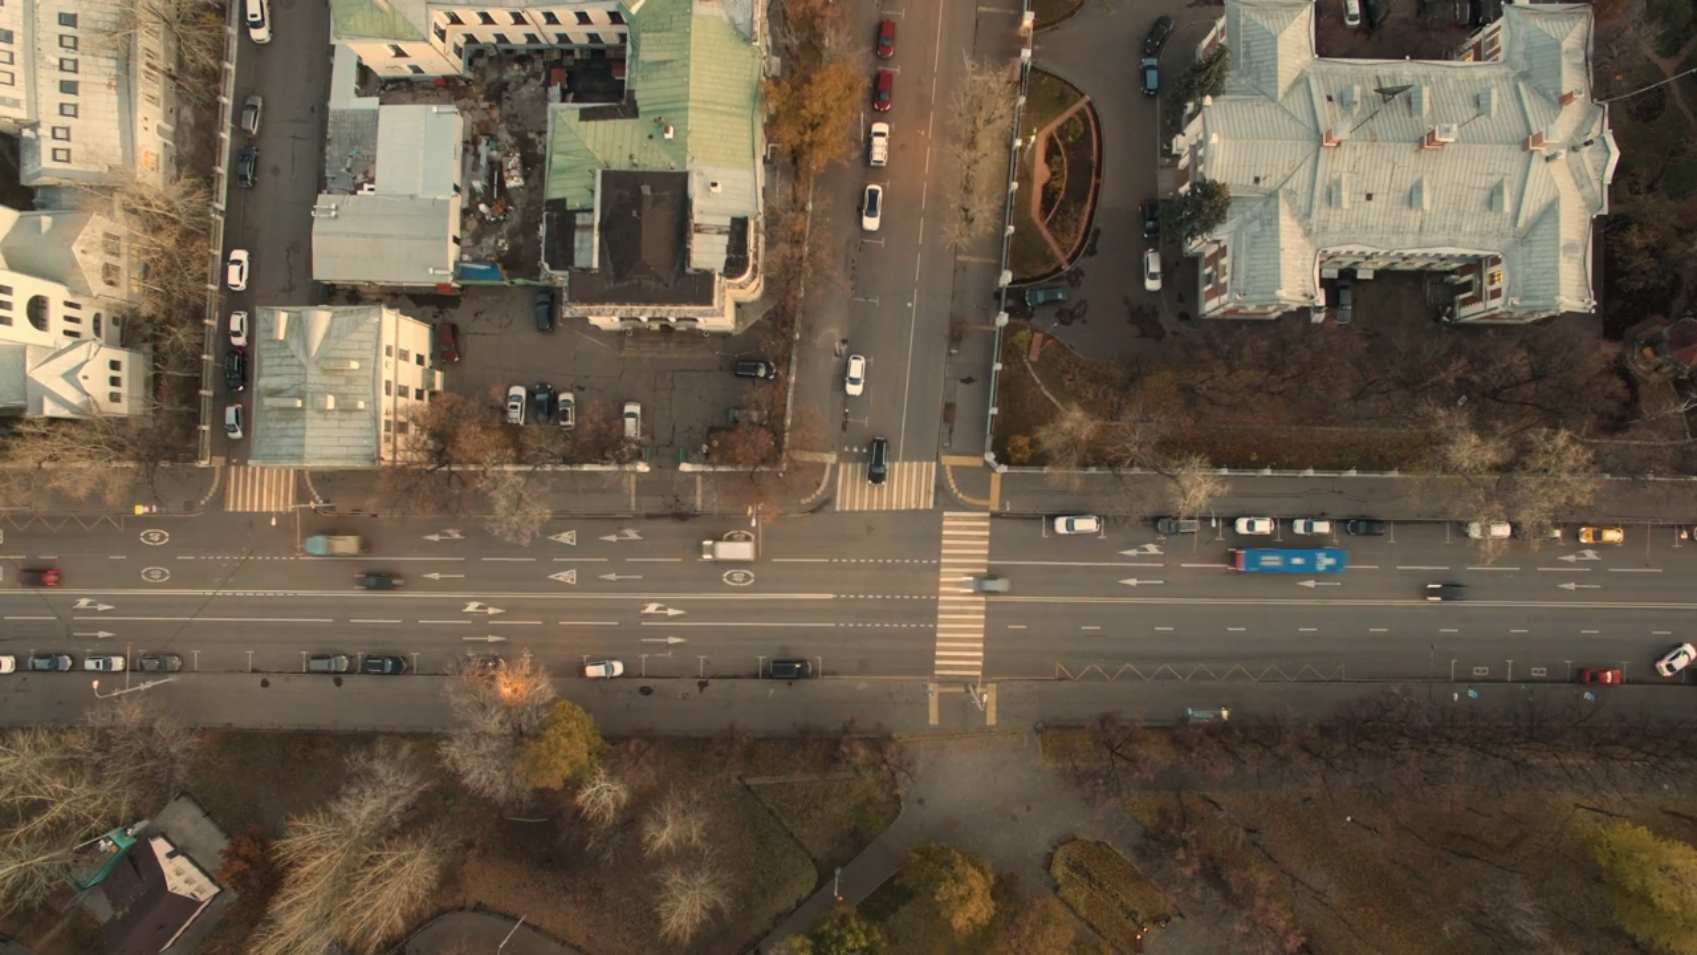car: (1224, 545, 1349, 575), (1652, 639, 1697, 677), (1135, 16, 1176, 56), (700, 538, 756, 566), (303, 534, 369, 556), (242, 1, 275, 43), (866, 119, 892, 168), (225, 247, 251, 295), (239, 93, 265, 140), (1573, 524, 1627, 546), (861, 183, 883, 236), (1422, 580, 1470, 603), (436, 322, 464, 361), (868, 433, 888, 487), (362, 654, 411, 676), (225, 347, 249, 391), (734, 358, 776, 382), (465, 653, 510, 675), (505, 384, 527, 429), (844, 352, 866, 398), (875, 15, 897, 61), (1138, 197, 1160, 241), (1024, 285, 1073, 304), (1463, 520, 1514, 539), (27, 653, 75, 673), (355, 571, 403, 591), (1576, 665, 1624, 684), (1051, 517, 1101, 535), (224, 403, 248, 441), (1145, 246, 1164, 292), (1235, 514, 1277, 535), (1156, 515, 1200, 535), (135, 654, 185, 672), (962, 577, 1012, 595), (1293, 517, 1333, 538), (83, 654, 126, 674), (727, 407, 770, 427), (770, 660, 814, 680), (536, 290, 555, 336), (239, 143, 258, 188), (875, 68, 893, 114), (308, 654, 348, 674), (534, 384, 554, 424), (557, 391, 577, 431), (228, 310, 251, 346), (17, 570, 59, 589), (584, 661, 626, 680), (624, 400, 641, 444), (1337, 280, 1353, 326), (1349, 519, 1388, 538), (1141, 56, 1159, 98), (1342, 1, 1362, 30), (1314, 286, 1326, 328), (1, 658, 16, 674)
